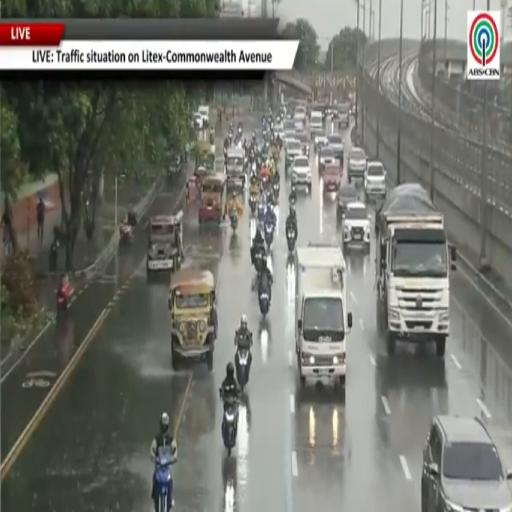car: (421, 415, 511, 511), (342, 202, 371, 252), (364, 160, 386, 199), (337, 184, 358, 220), (292, 155, 311, 194), (348, 147, 367, 182), (321, 164, 342, 193), (285, 139, 302, 171), (328, 134, 344, 162), (319, 147, 335, 173), (310, 111, 323, 139), (296, 132, 310, 156), (337, 104, 350, 127), (313, 132, 327, 152), (294, 106, 306, 129), (198, 105, 209, 129), (192, 112, 203, 130), (284, 130, 296, 146), (274, 122, 284, 140), (283, 119, 294, 132)
jeepney: (169, 269, 217, 371), (146, 210, 184, 274), (187, 142, 215, 199), (199, 173, 227, 223), (225, 148, 245, 189), (195, 141, 215, 173)
motorcycle: (155, 455, 172, 511), (222, 403, 237, 456), (236, 348, 250, 391), (57, 281, 73, 316), (120, 222, 133, 244), (255, 249, 266, 274), (259, 293, 270, 316), (265, 223, 274, 248), (286, 230, 295, 251), (230, 208, 238, 231), (258, 202, 266, 223), (249, 196, 257, 216), (273, 182, 279, 201), (289, 196, 296, 206), (228, 132, 232, 146), (238, 126, 242, 138)
truck: (375, 184, 456, 357), (295, 243, 352, 389)
